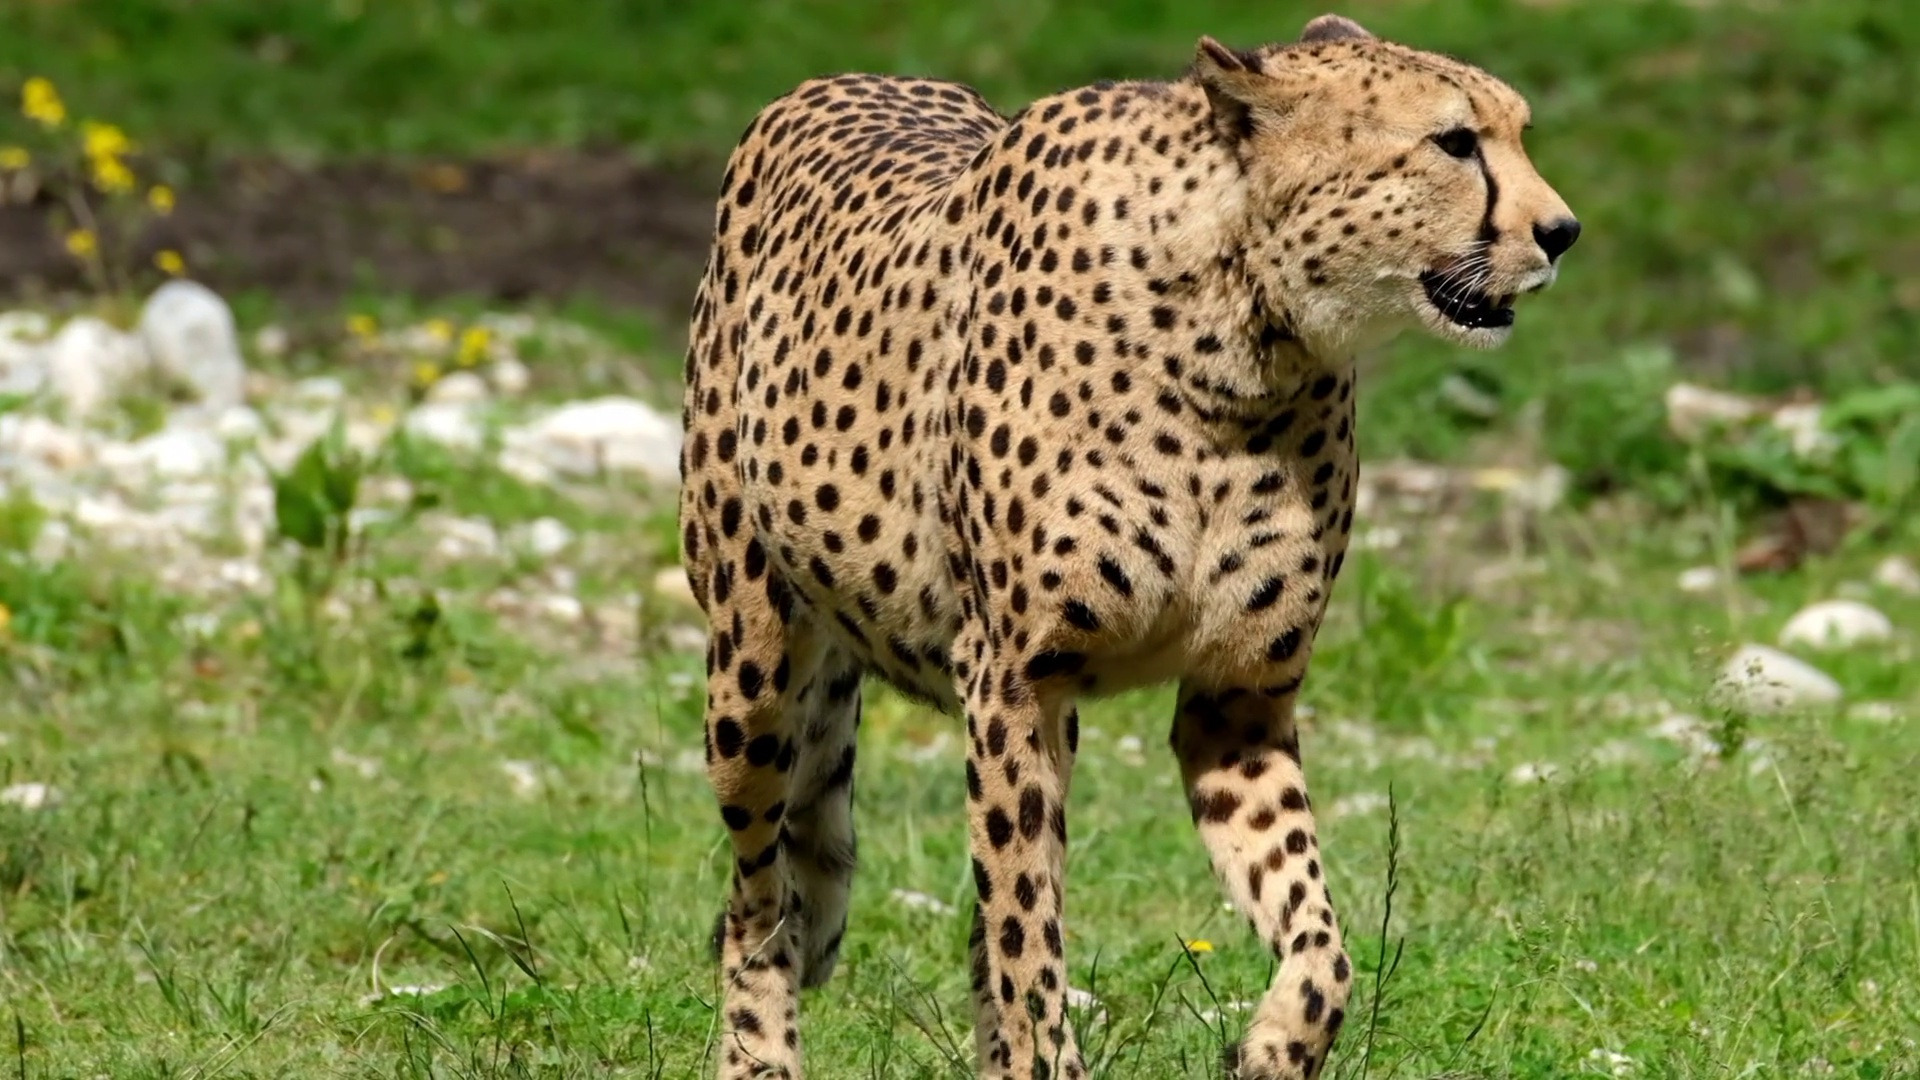Cheetah: (674, 9, 1585, 1080)
